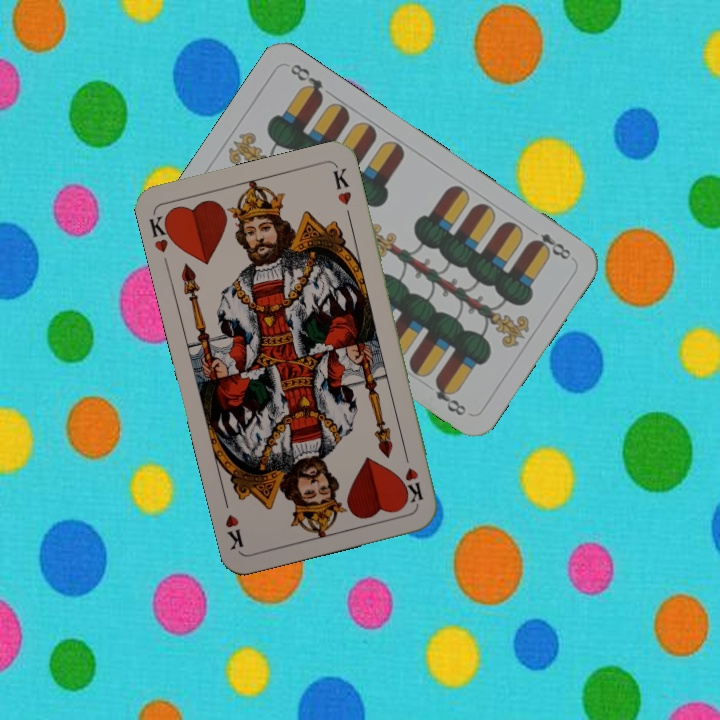E8: (526, 229, 574, 263)
HK: (145, 208, 179, 255), (399, 447, 425, 505)
